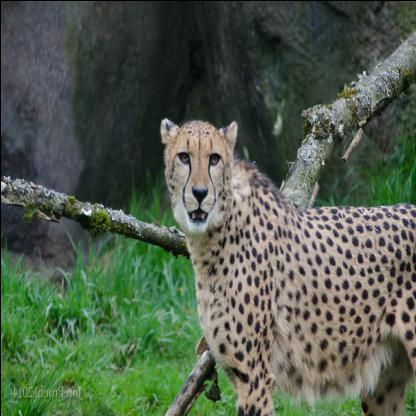leopard: (154, 113, 240, 246)
